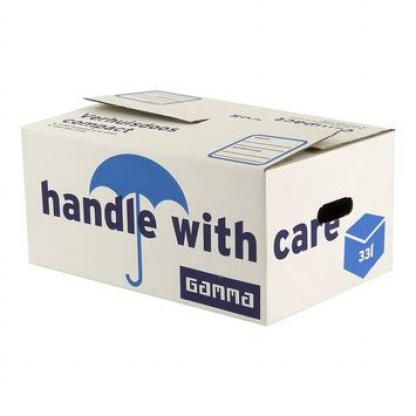box: (20, 87, 397, 326)
